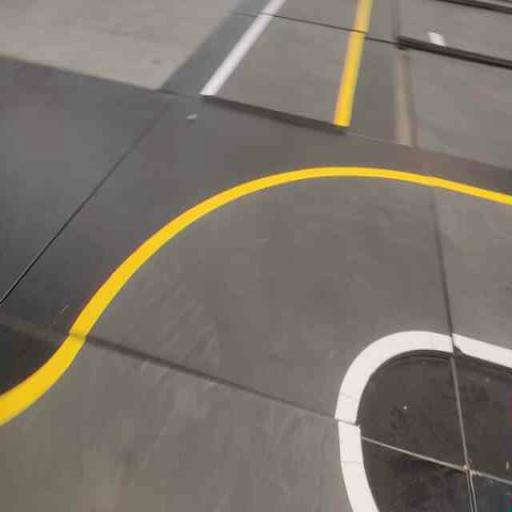right: (58, 140, 469, 468)
